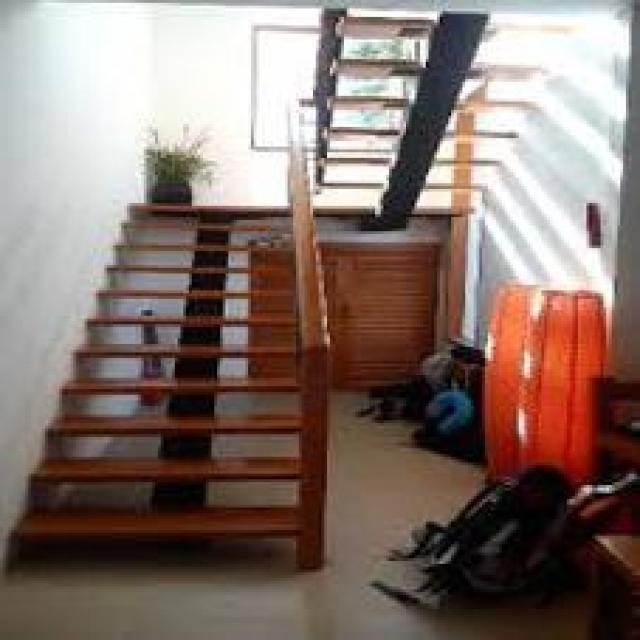stair: (7, 180, 337, 537)
